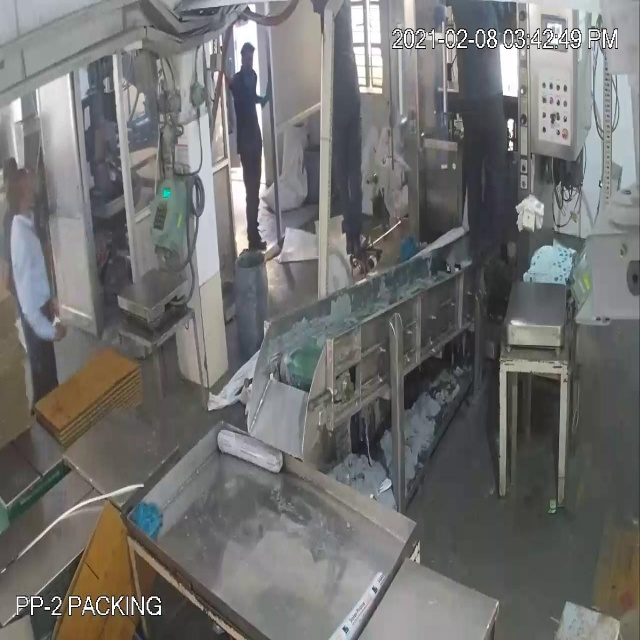Sin_guantes: (19, 268, 66, 351)
